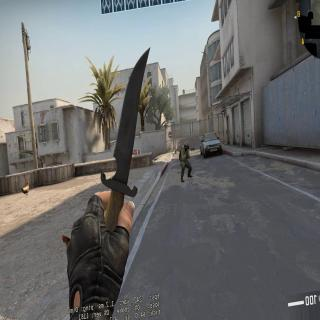CT-Body: (180, 141, 192, 175)
CT-Head: (184, 142, 189, 148)
